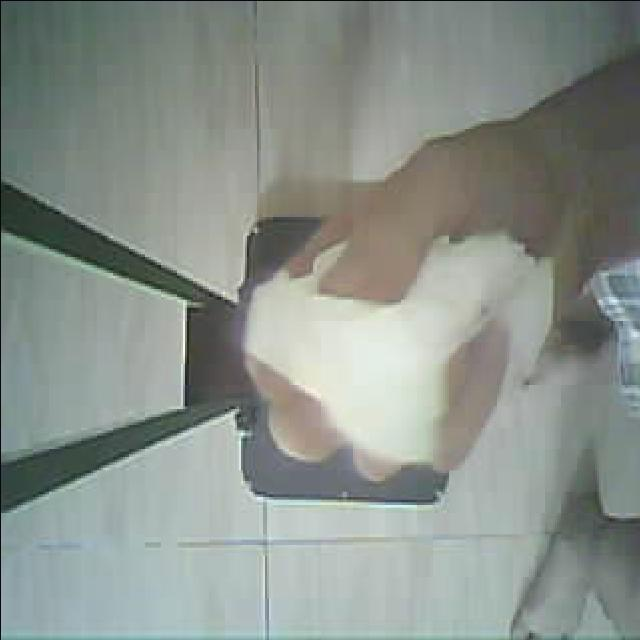Paper: (241, 220, 551, 475)
